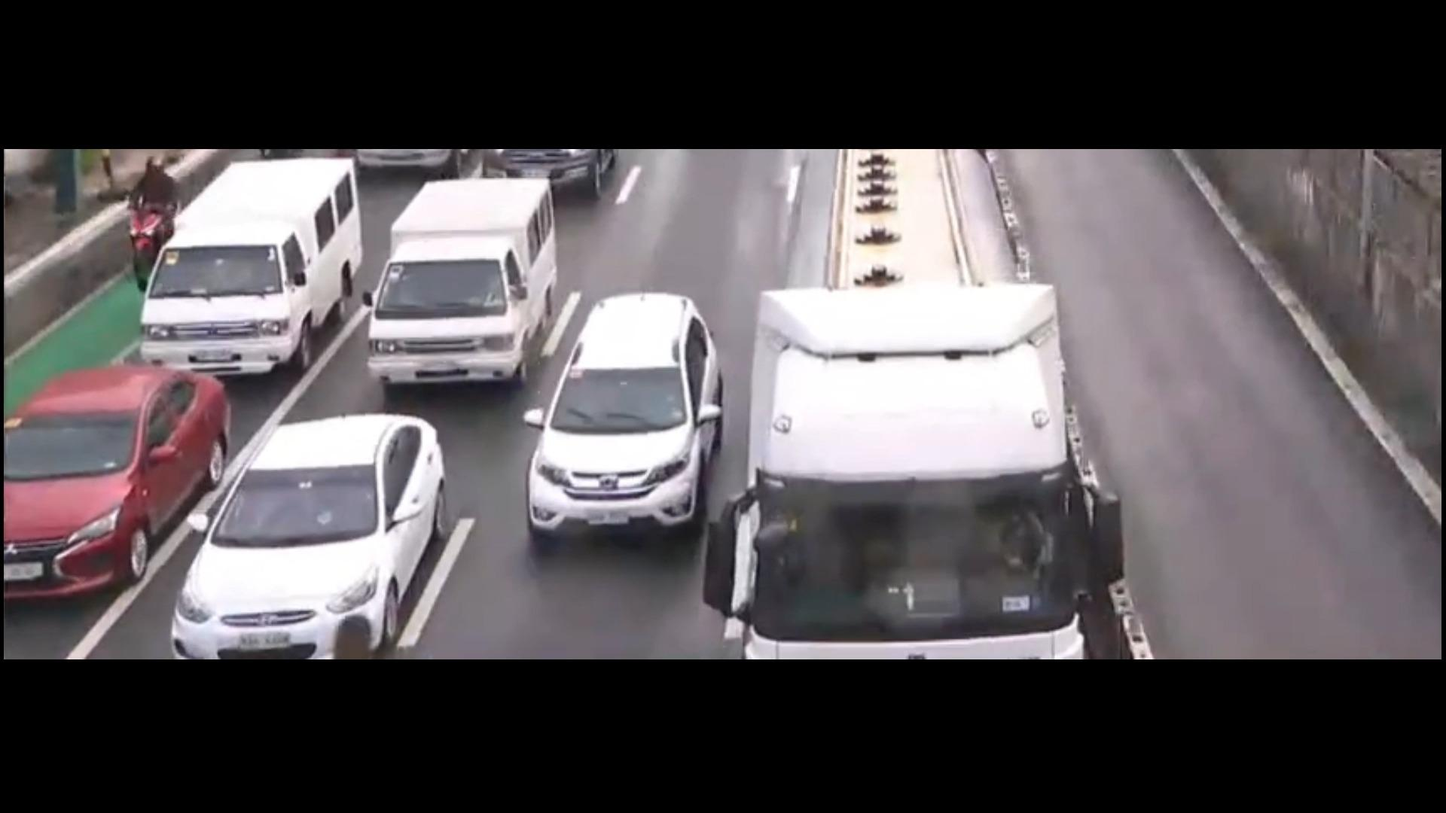Motorcycle: (120, 160, 174, 288)
Multicab: (139, 159, 365, 373), (365, 176, 557, 388)
SUV: (530, 294, 720, 550)
Sedan: (172, 411, 452, 659), (4, 361, 229, 602)
Truck: (702, 150, 1125, 661)
